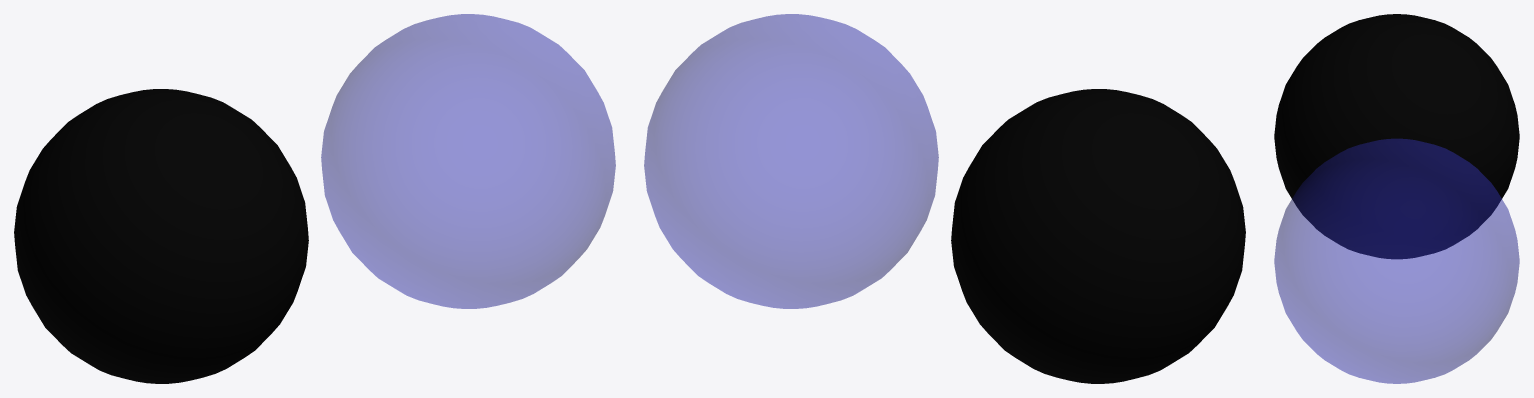
File: glass.obj
3 views of the same model, side by side, from view 1: azimuth 30°, elevation 25°; view 2: azimuth 150°, elevation 25°; view 3: azimuth 270°, elevation 25° (orthographic). The views are drawn at different scales.
Size of the model in its own units: 4.4 by 2 by 2.
